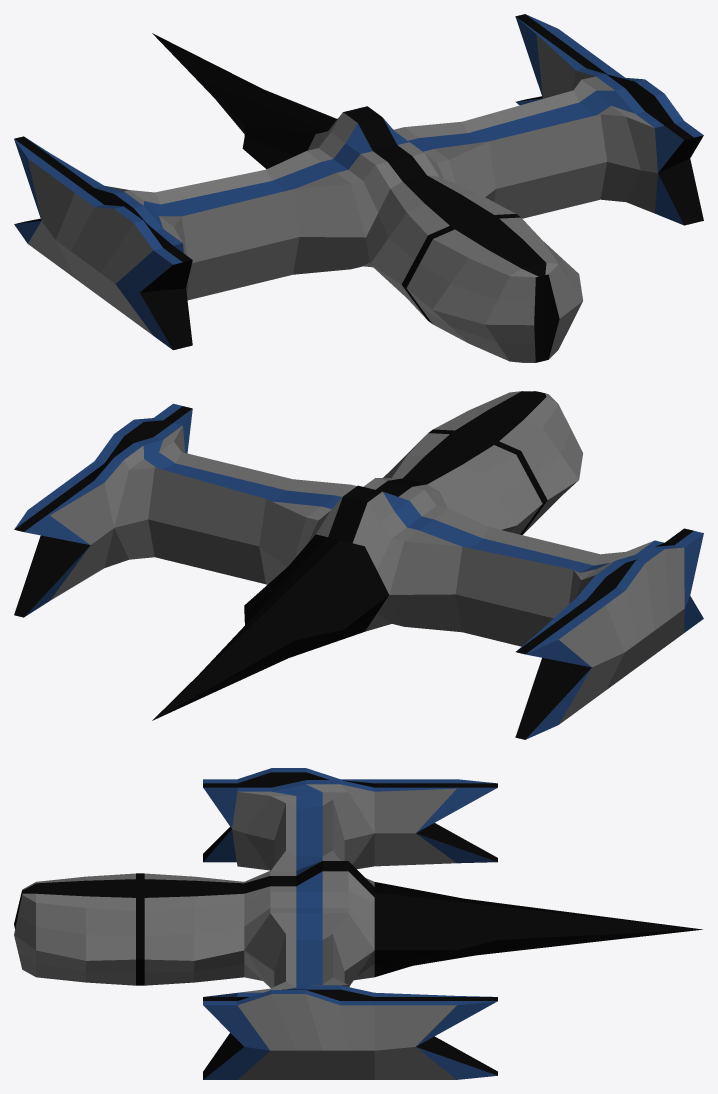
Rendered from SpaceShip.fbx.
3 renders of one model, top to bottom at view 1: azimuth 30°, elevation 25°; view 2: azimuth 150°, elevation 25°; view 3: azimuth 270°, elevation 25°, orthographic. The views are drawn at different scales.
Visible parts, largest first — view 1: SpaceShip; view 2: SpaceShip; view 3: SpaceShip.
Part boxes in pixels (bbox=[...]): SpaceShip: bbox=[14, 14, 703, 362]; SpaceShip: bbox=[14, 391, 703, 739]; SpaceShip: bbox=[14, 768, 702, 1079].
Bounding box in the file's own units: 1393 × 280 × 1676.
Materials: 1 (1 with a texture image).
